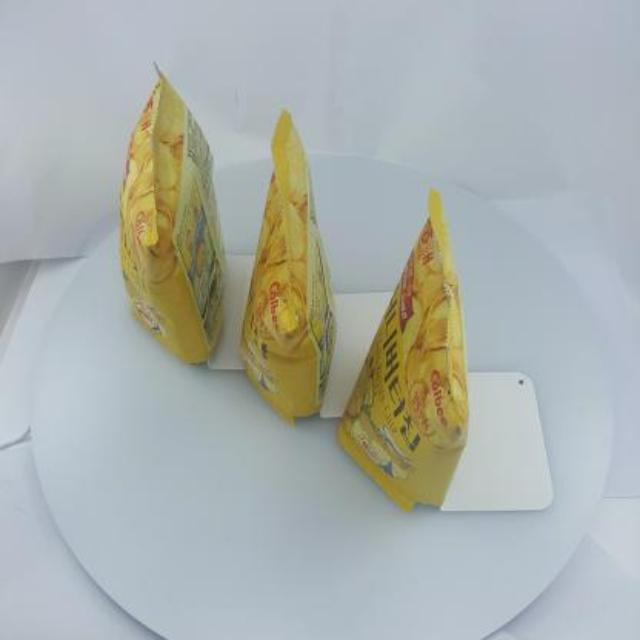snack_bag: (104, 42, 493, 530)
